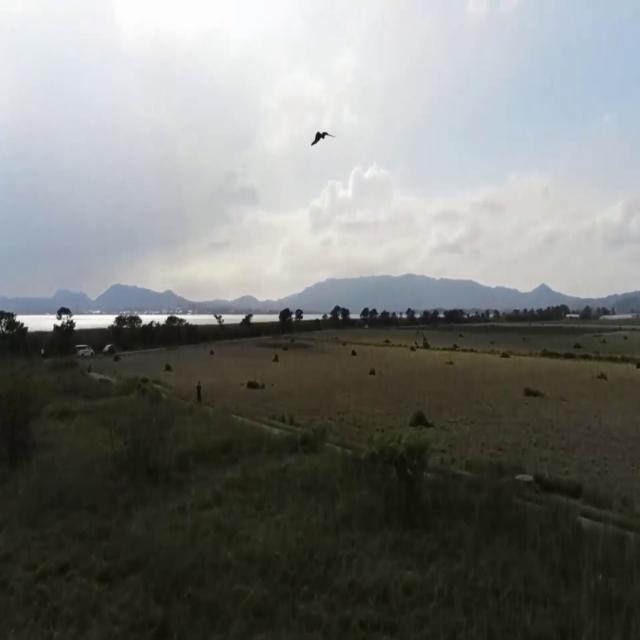bird: (310, 117, 334, 162), (351, 342, 357, 363)
